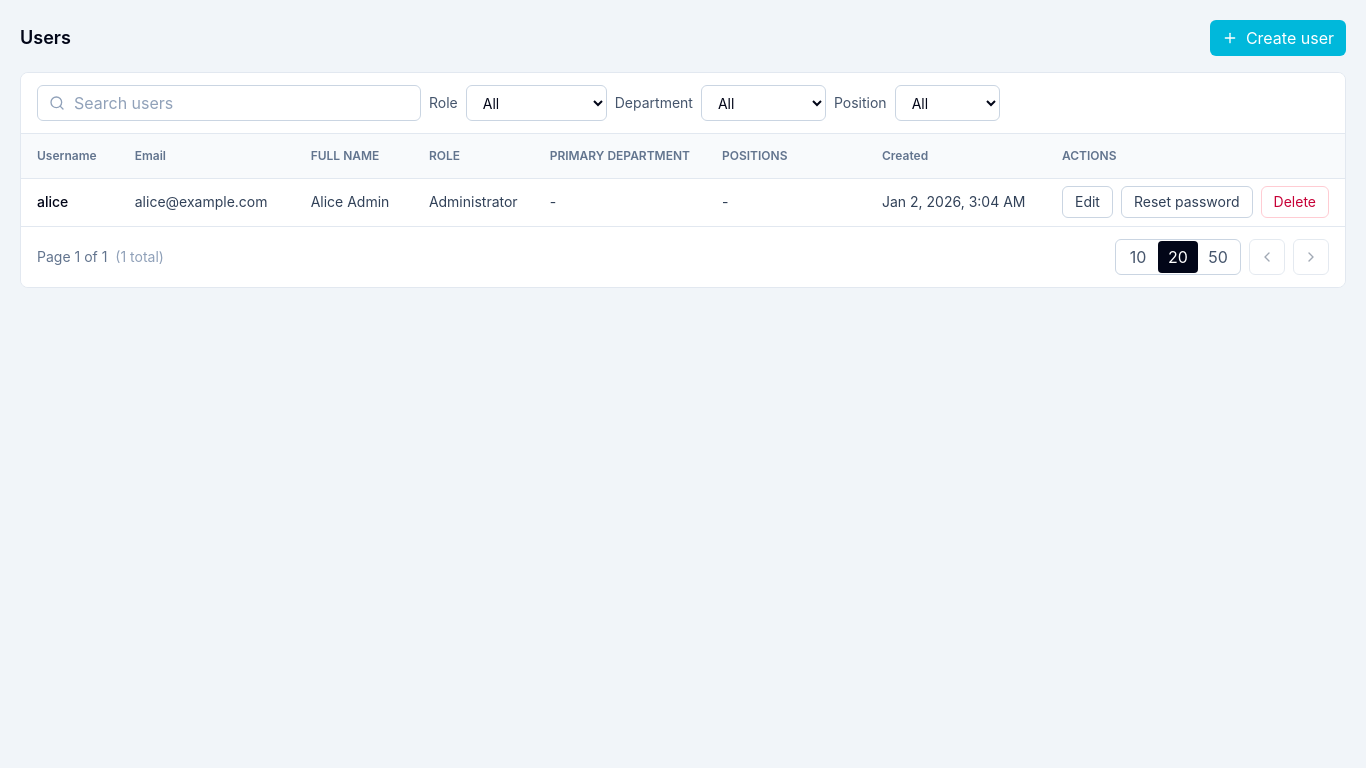
Test: UsersPage › resets a user password and refetches users
Expected: the text "alice" is shown, [37,193,68,210]
Click the button "Reset password": (1187, 202) [1121,186,1253,218]
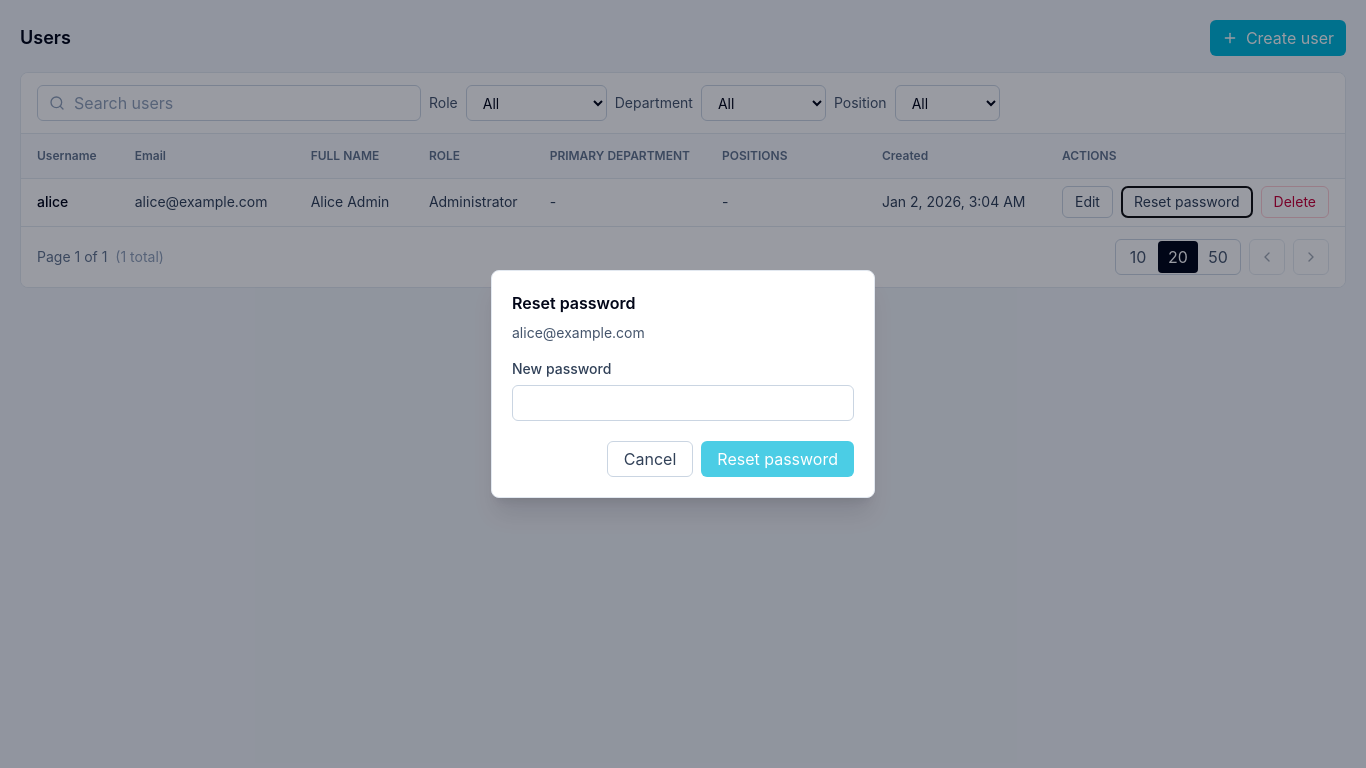
In the password field labelled "New password": (683, 403) [512,385,854,421], type "NewPassword123!"
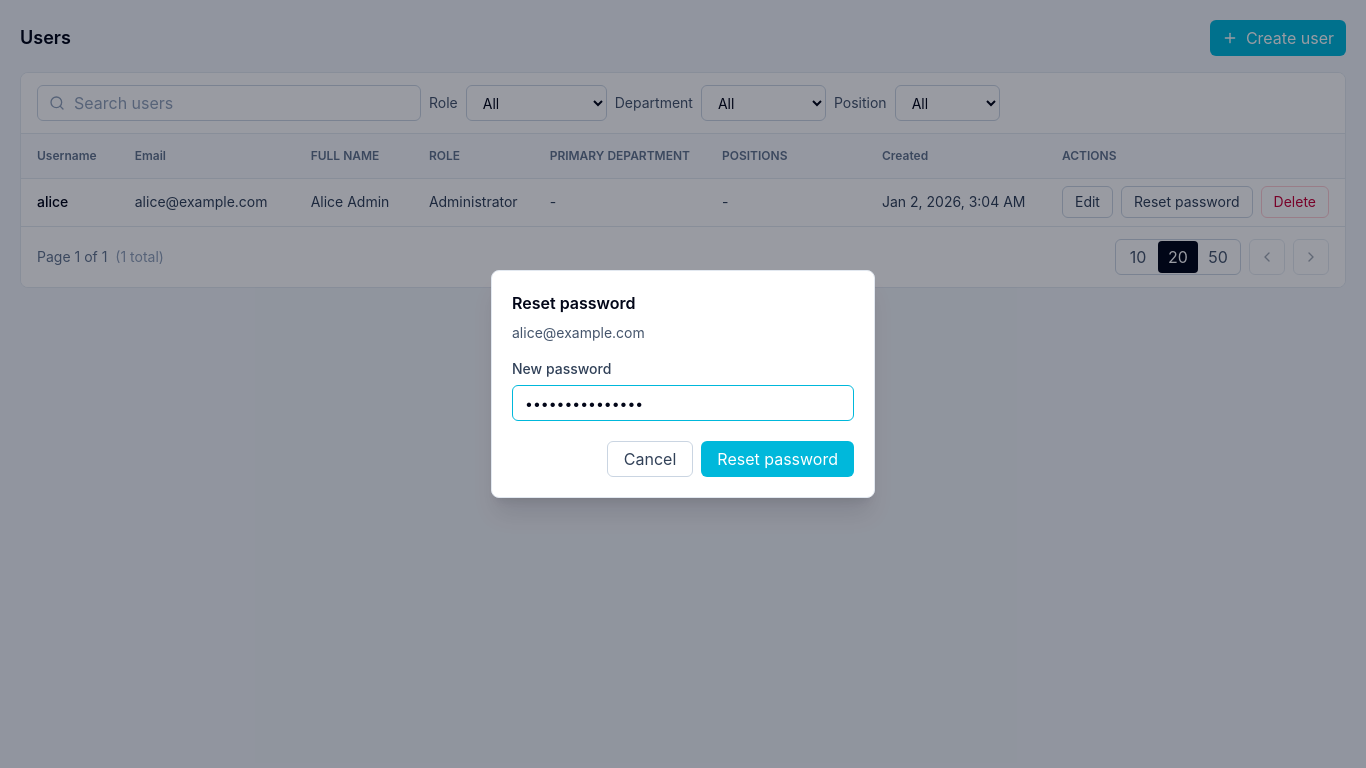
Click the button "Reset password": (778, 459) [701,441,854,477]
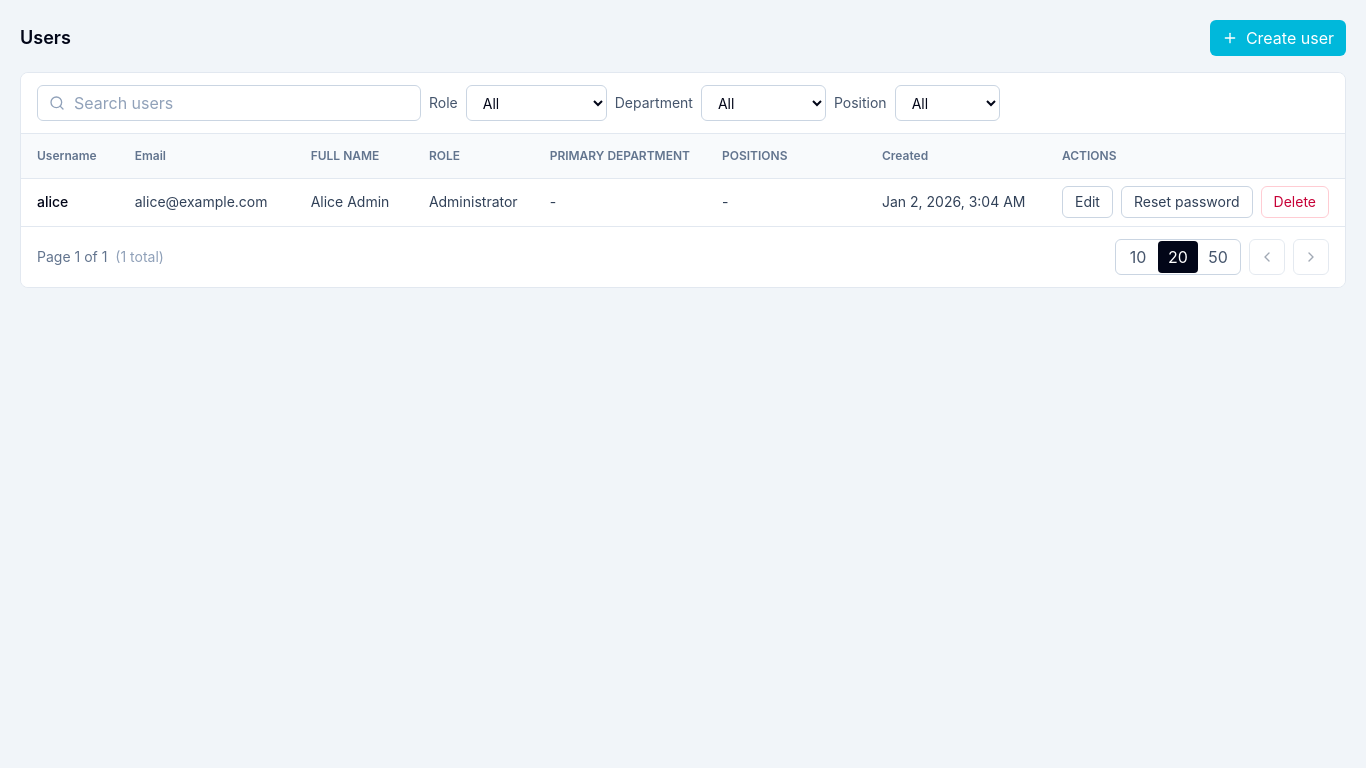
Result: the dialog is gone
